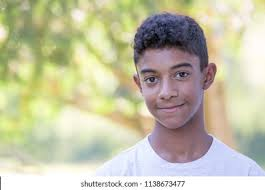person: (132, 12, 217, 131)
